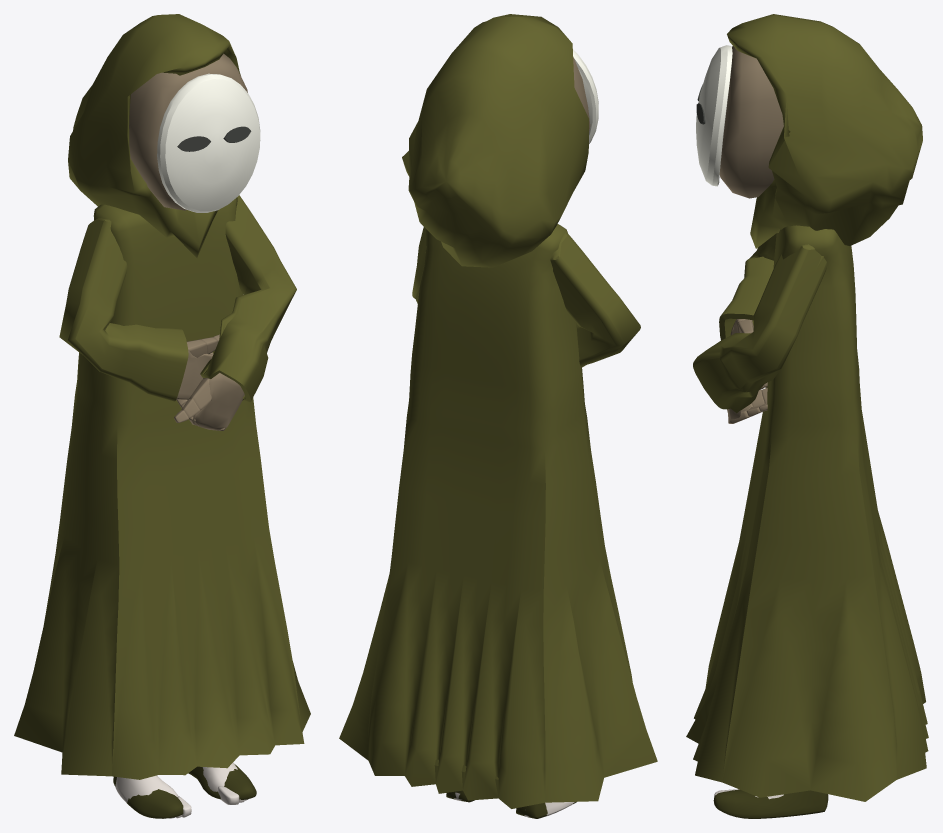
Rendered from Leo.fbx.
3 views of the same model, side by side, from view 1: azimuth 30°, elevation 25°; view 2: azimuth 150°, elevation 25°; view 3: azimuth 270°, elevation 25° (orthographic).
Parts seen in each view (by area): view 1: polySurface3, Caputxa1, polySurface8, màscara, polySurface9, head_geo, R_palm_R_geo (×2), foot_R_geo, foot_L_geo, foot_R_geo1; view 2: polySurface3, Caputxa1, polySurface8, màscara; view 3: polySurface3, Caputxa1, polySurface9, head_geo, màscara, foot_L_geo, polySurface8.
Boxes of the visible parts, left/top/right/bottom form: polySurface3: left=14, top=197, right=310, bottom=779; Caputxa1: left=68, top=14, right=240, bottom=257; polySurface8: left=59, top=218, right=188, bottom=401; màscara: left=157, top=73, right=260, bottom=212; polySurface9: left=200, top=195, right=296, bottom=401; head_geo: left=129, top=53, right=247, bottom=210; R_palm_R_geo (×2): left=176, top=351, right=244, bottom=430; foot_R_geo: left=113, top=776, right=183, bottom=818; foot_L_geo: left=188, top=764, right=256, bottom=799; foot_R_geo1: left=115, top=775, right=178, bottom=802; polySurface3: left=339, top=224, right=657, bottom=808; Caputxa1: left=402, top=14, right=588, bottom=267; polySurface8: left=550, top=232, right=640, bottom=367; màscara: left=573, top=49, right=598, bottom=143; polySurface3: left=686, top=225, right=928, bottom=801; Caputxa1: left=727, top=14, right=922, bottom=248; polySurface9: left=693, top=244, right=827, bottom=413; head_geo: left=719, top=46, right=783, bottom=198; màscara: left=696, top=45, right=732, bottom=186; foot_L_geo: left=713, top=789, right=828, bottom=818; polySurface8: left=719, top=233, right=776, bottom=340.
Bounding box in the file's own units: 1.24 × 3.48 × 0.9859.
